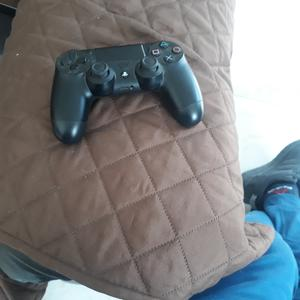controller: (50, 41, 203, 145)
